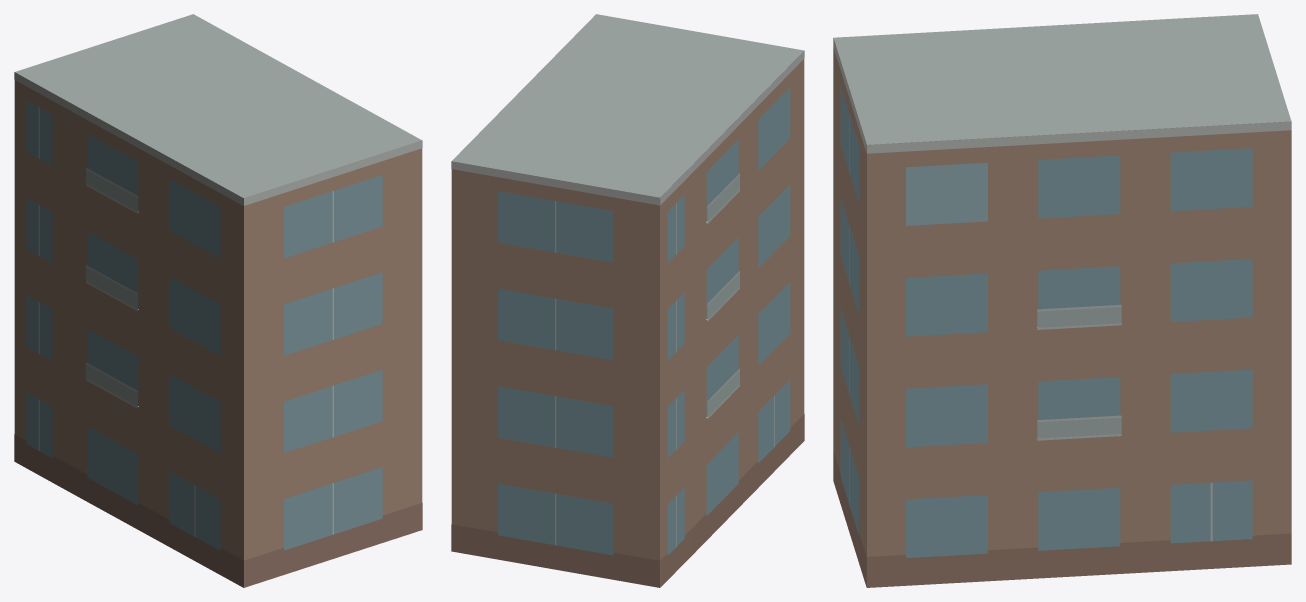
File: residential-dfae1085-863e-4288-812b-99e5acb07383.glb
3 views of the same model, side by side, from view 1: azimuth 30°, elevation 25°; view 2: azimuth 150°, elevation 25°; view 3: azimuth 270°, elevation 25° (orthographic). The views are drawn at different scales.
Parts seen in each view (by area): view 1: residential-dfae1085-863e-4288-812b-99e5acb07383.tmp; view 2: residential-dfae1085-863e-4288-812b-99e5acb07383.tmp; view 3: residential-dfae1085-863e-4288-812b-99e5acb07383.tmp.
Boxes of the visible parts, x1,y1,x2,y2 form: residential-dfae1085-863e-4288-812b-99e5acb07383.tmp: (14,14,422,587); residential-dfae1085-863e-4288-812b-99e5acb07383.tmp: (451,14,804,587); residential-dfae1085-863e-4288-812b-99e5acb07383.tmp: (833,14,1291,587).
Size of the model in its own units: 7.74 by 12.2 by 11.44.
